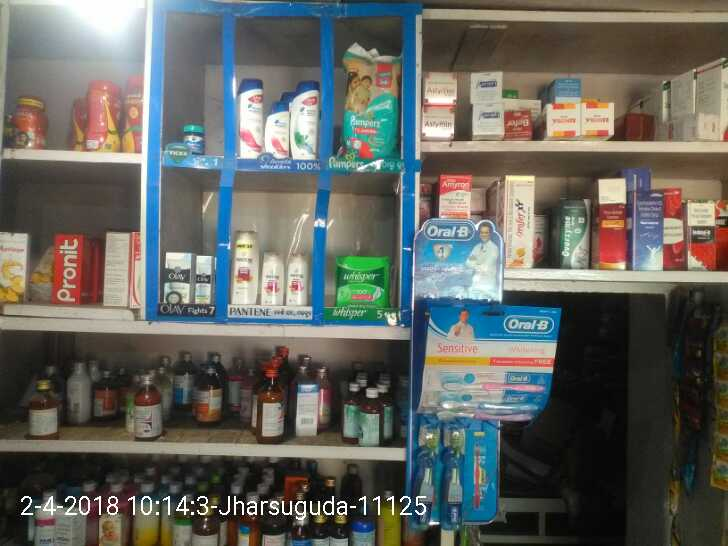oralcare: (426, 298, 560, 420), (412, 428, 494, 528)
vicks: (180, 122, 207, 157)
